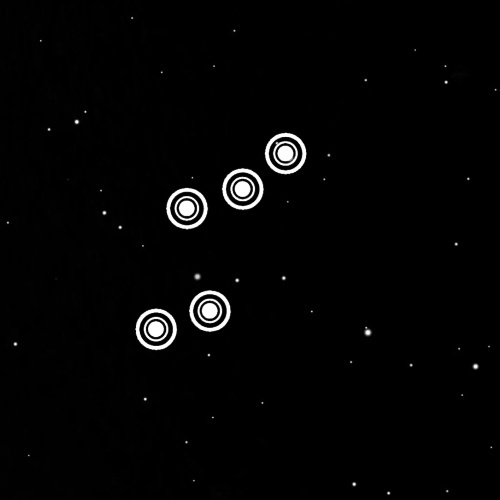lyra: (130, 120, 311, 360)
